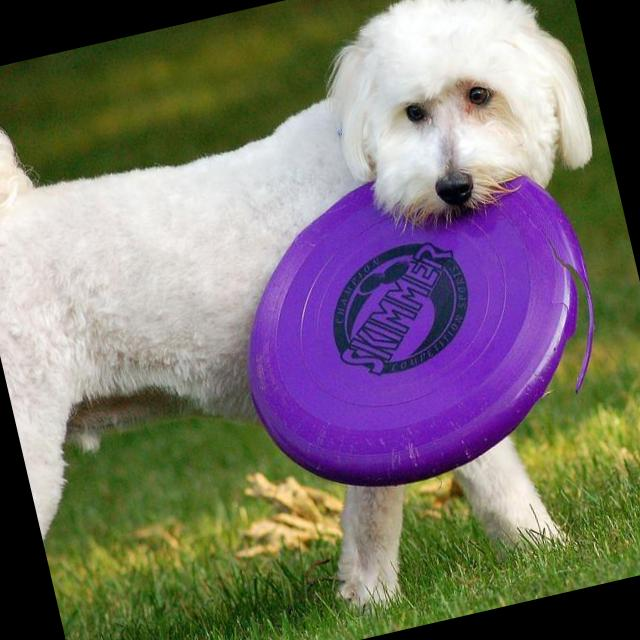dog: (0, 0, 640, 640)
frisbee: (209, 136, 624, 514)
